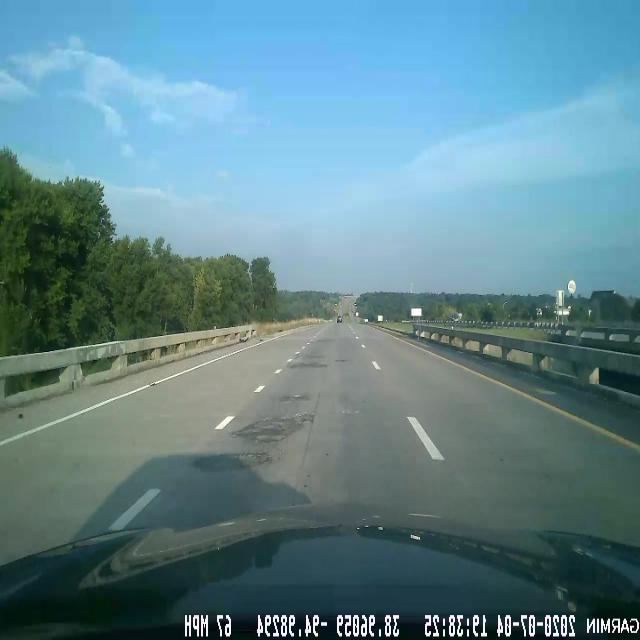pothole: (231, 404, 322, 452), (182, 444, 274, 481), (276, 385, 319, 410)
